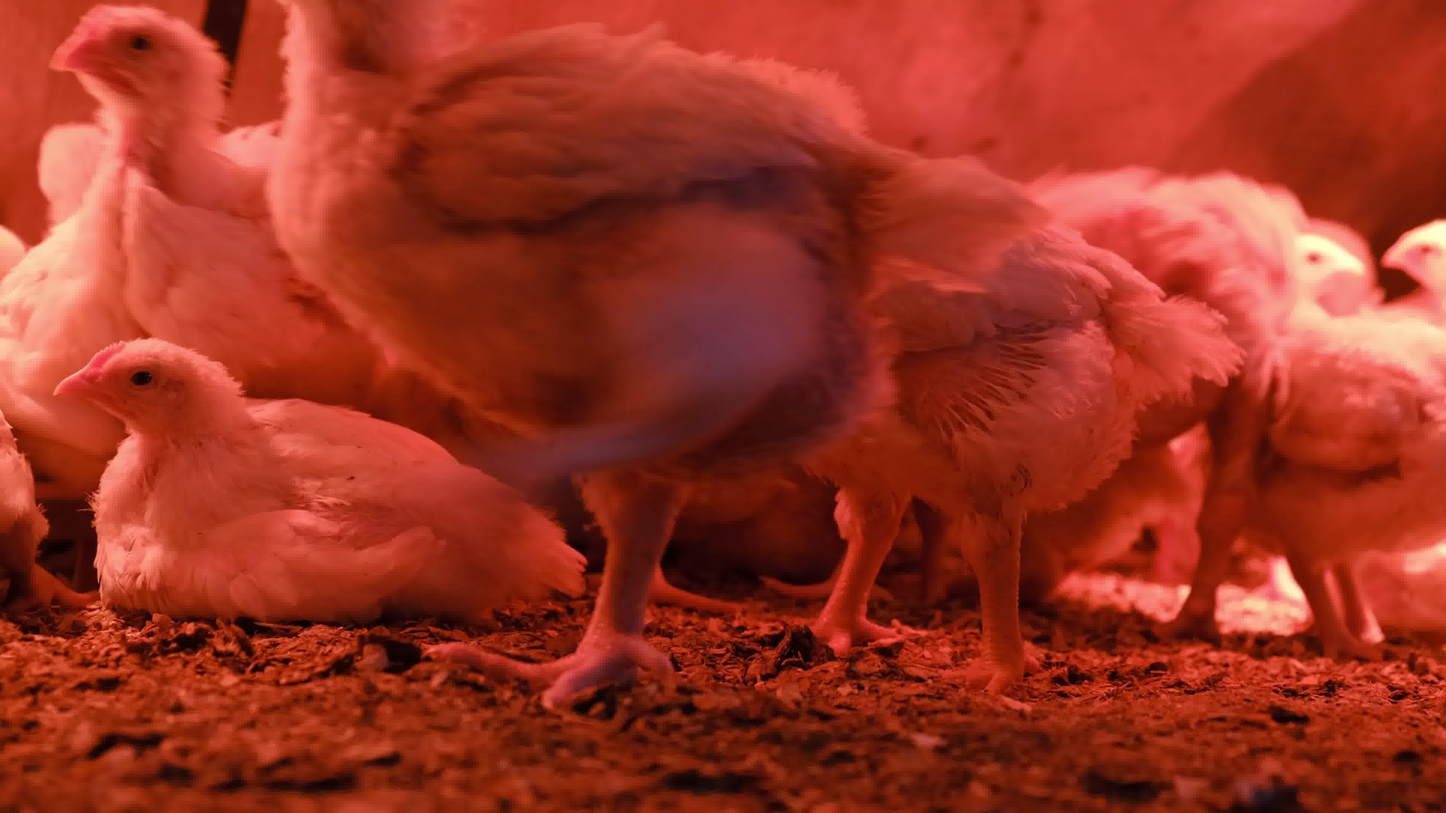AbNormal: (45, 318, 593, 636), (0, 359, 100, 621)
Normal: (222, 0, 945, 740), (866, 151, 1203, 679), (36, 2, 350, 354), (1229, 273, 1446, 662), (11, 85, 156, 263), (1363, 186, 1446, 346), (1284, 192, 1384, 311)
